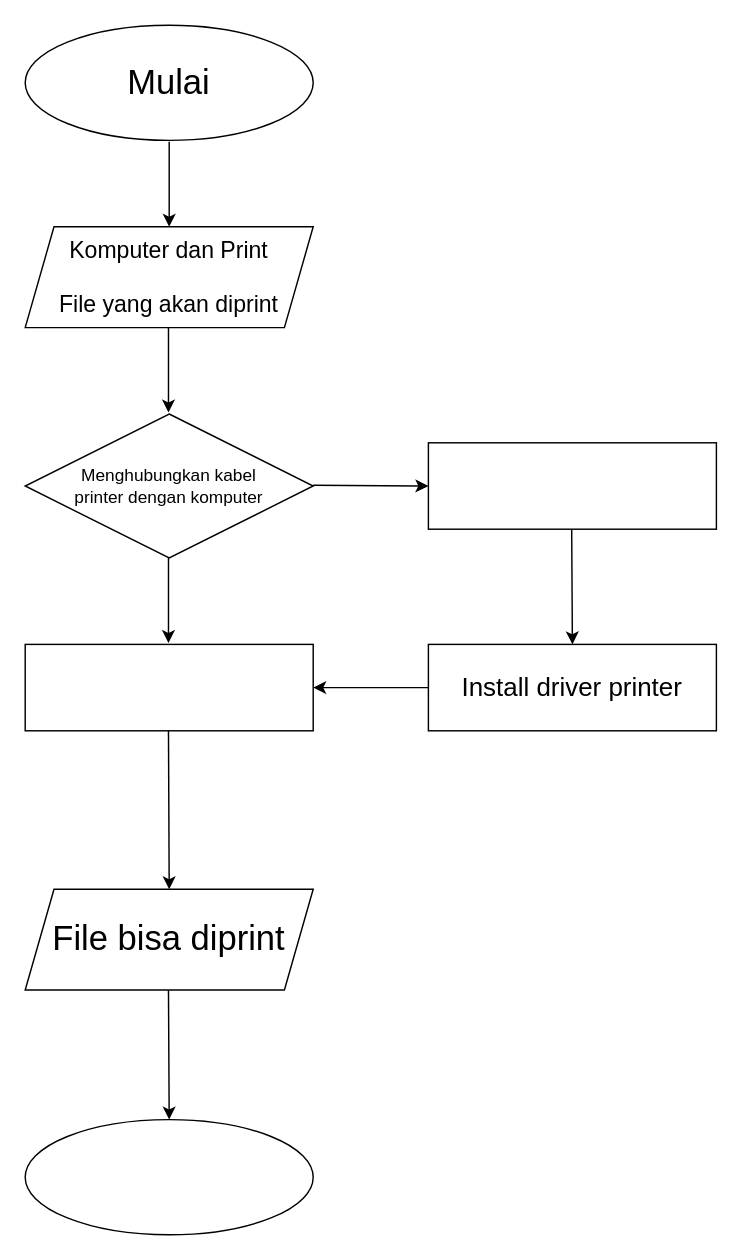
Image size: 742x1260. Some labels were removed from this diagram. Here are the shapes that lost their labels. From the top down, the centre of each, then its label:
At [571,485]: "Komputer tidak terhubung dengan printer".
At [168,687]: "Komputer terhubung dengan printer".
At [168,1176]: "Selesai".
